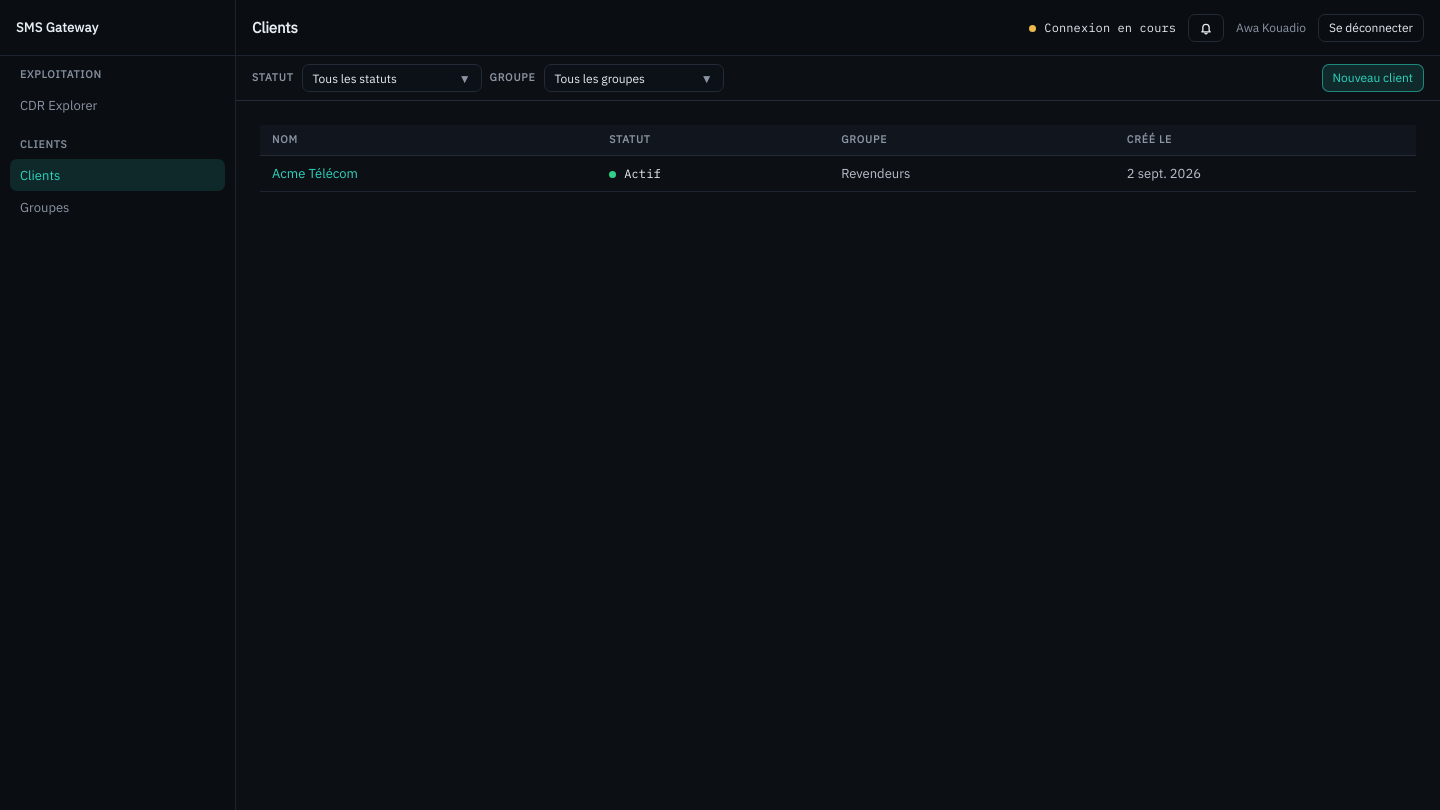
the customers screen › creates a customer, which appears in the list, and gives focus back to the title
Expected: the cell "Acme Télécom" is shown, [260,156,597,192]
Click the button "Nouveau client" at (1373,78), box [1322,64,1424,92]
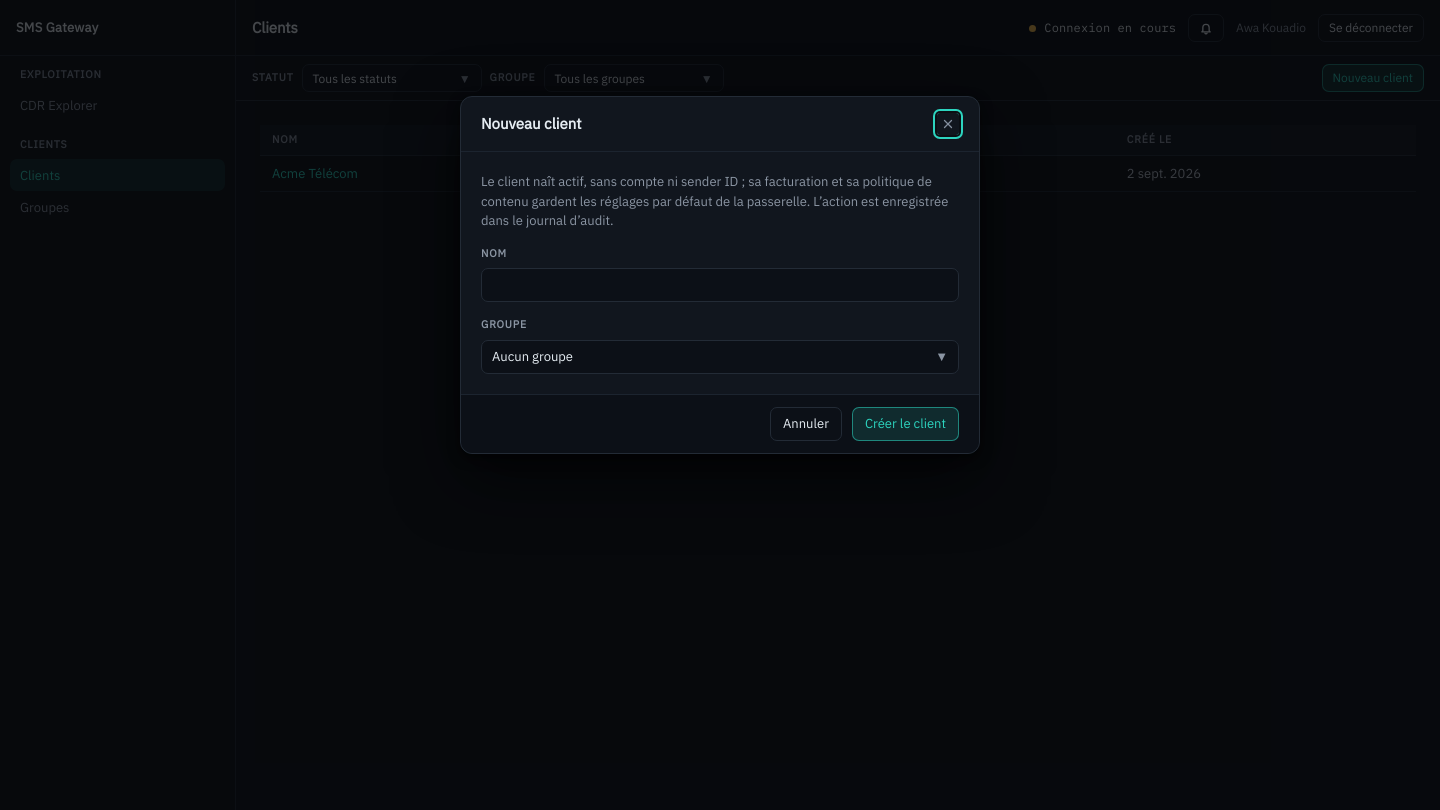
Type "Delta Pro" into the field labelled "Nom" at (720,285), box [481,268,959,302]
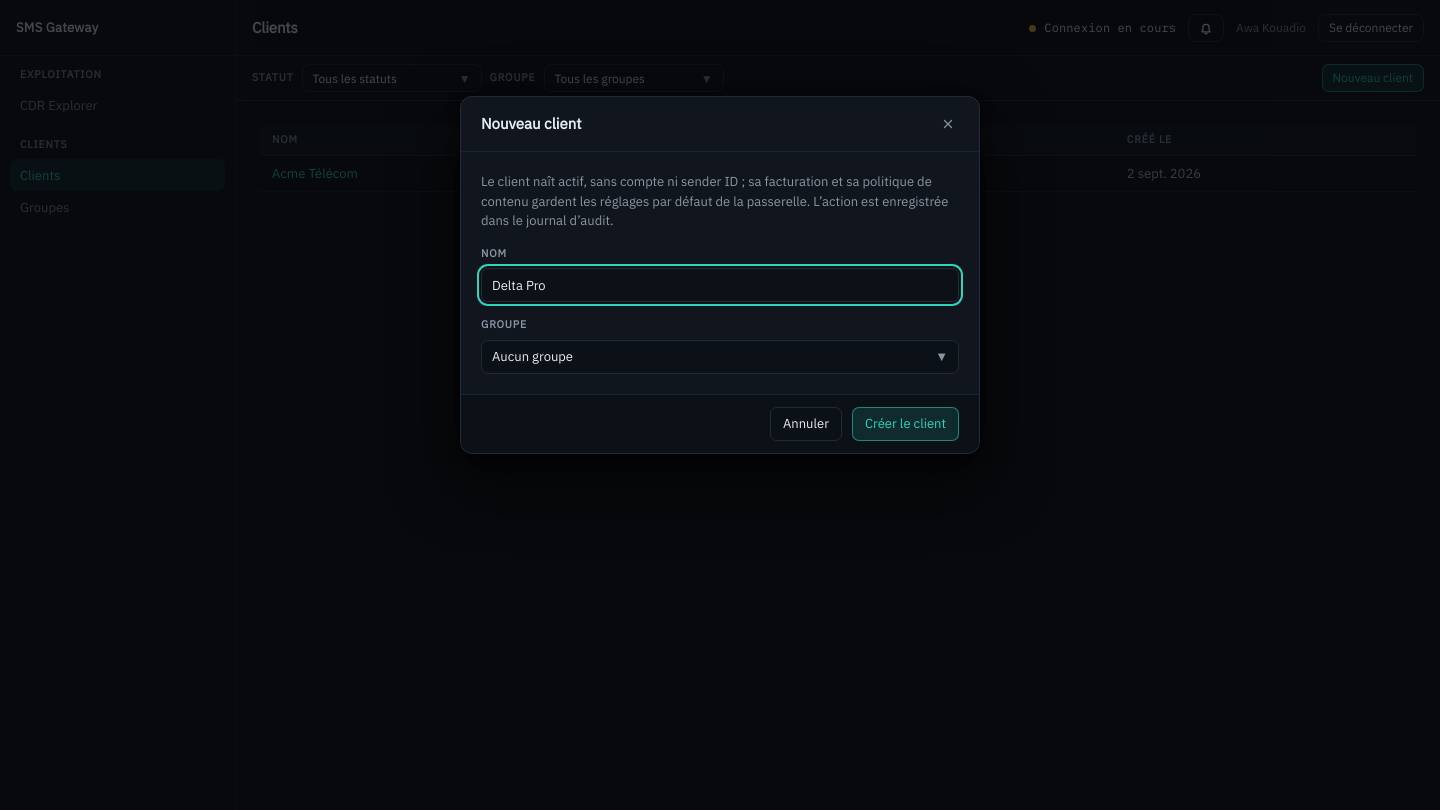
Click the dropdown labelled "groupe" at (533,357), box [481,340,959,374]
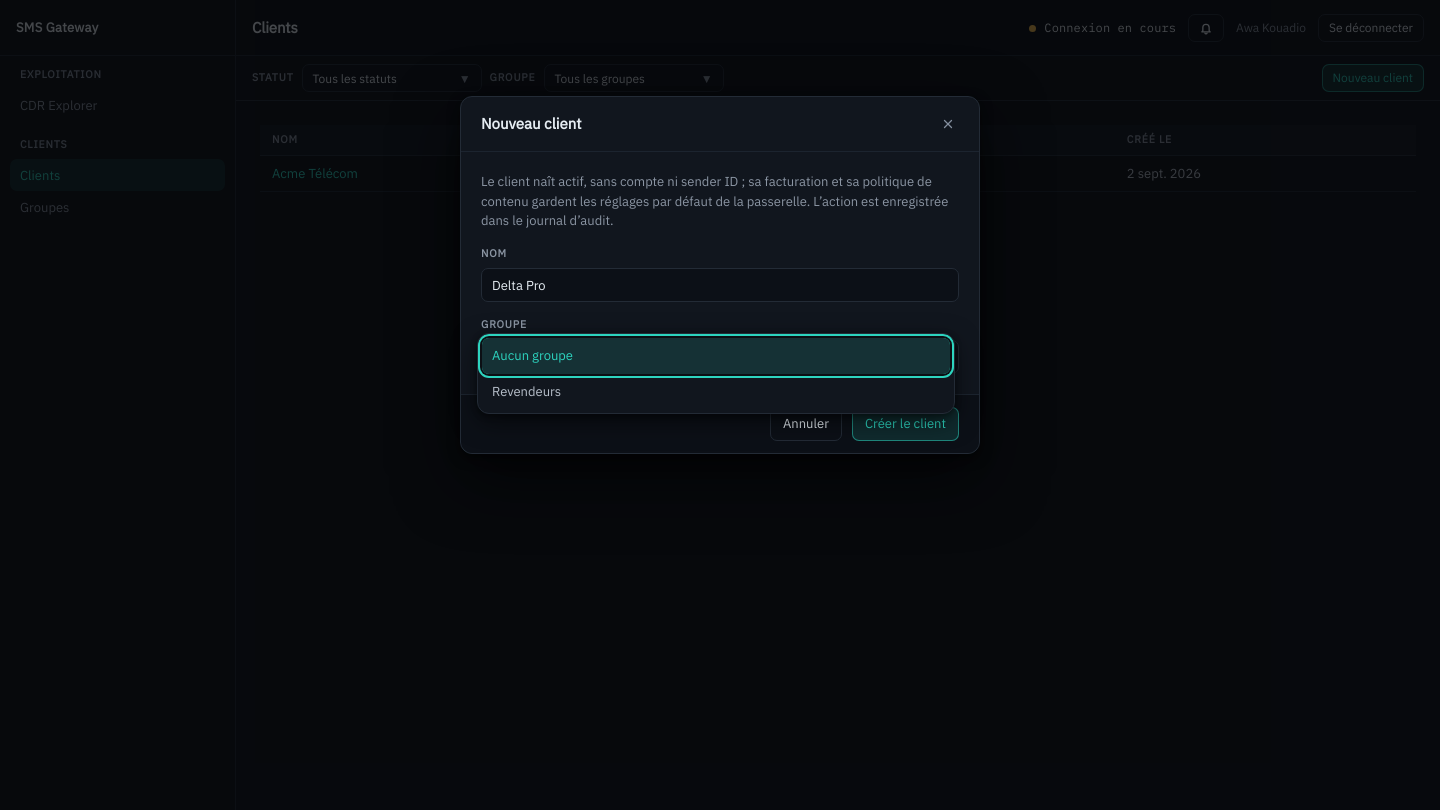
Click the option "Revendeurs" at (527,391), box [492,382,561,400]
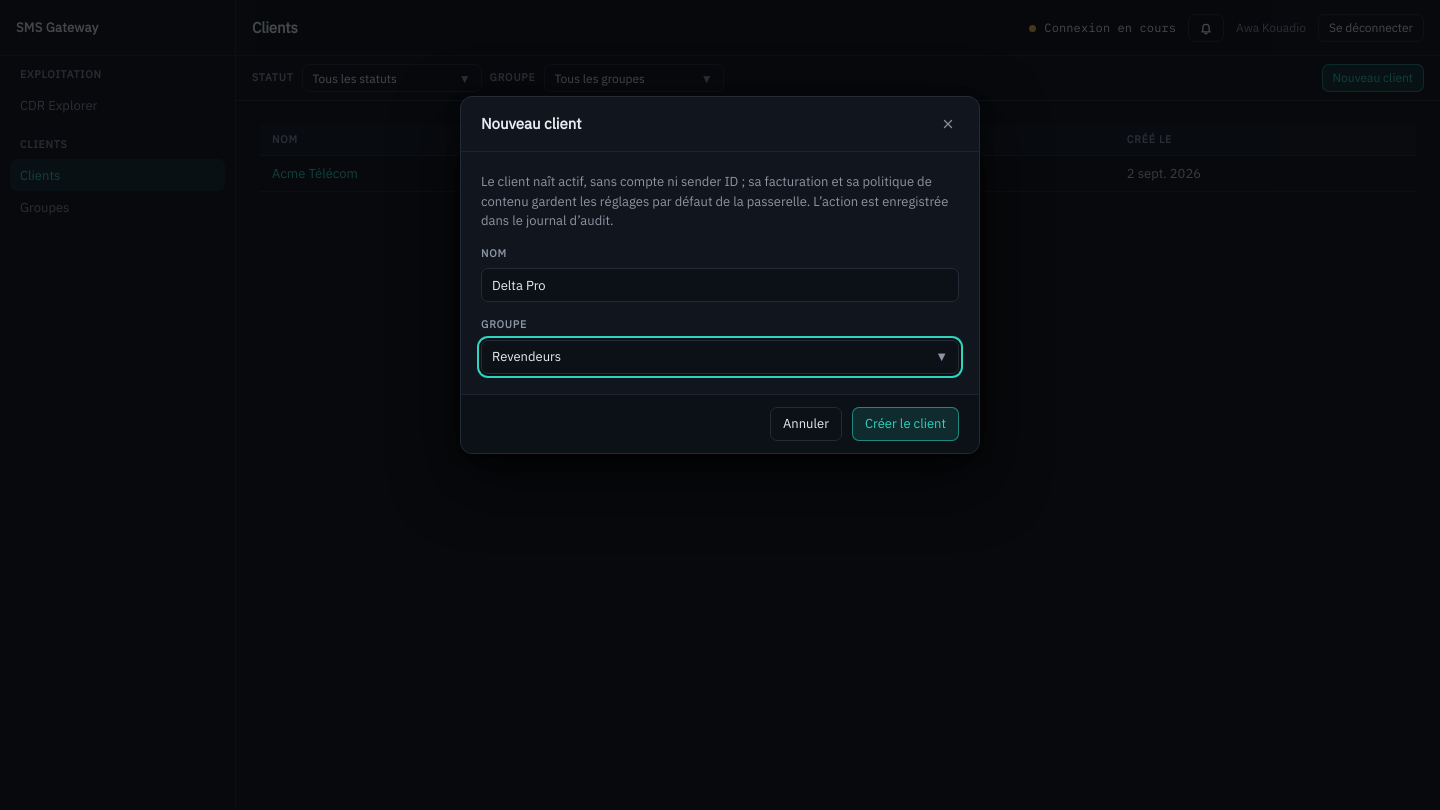
Click the button "Créer le client" at (906,424), box [852,407,959,441]
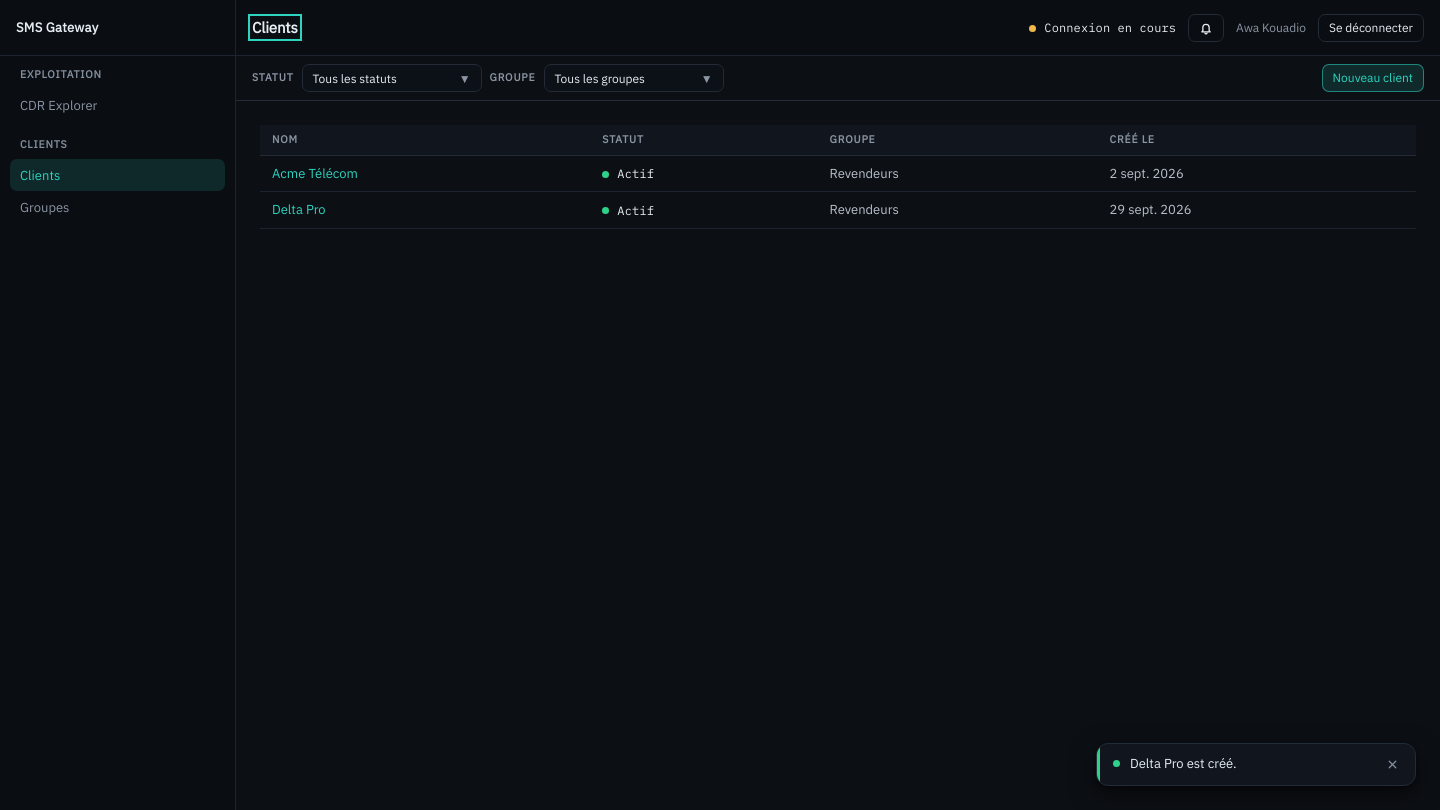
Expected: the text "Revendeurs" next to "29 sept. 2026" is shown, [830,201,899,218]
Expected: the heading "Delta Pro est créé." is shown, [1130,754,1236,774]
Expected: the cell "Delta Pro" is shown, [260,192,590,228]
